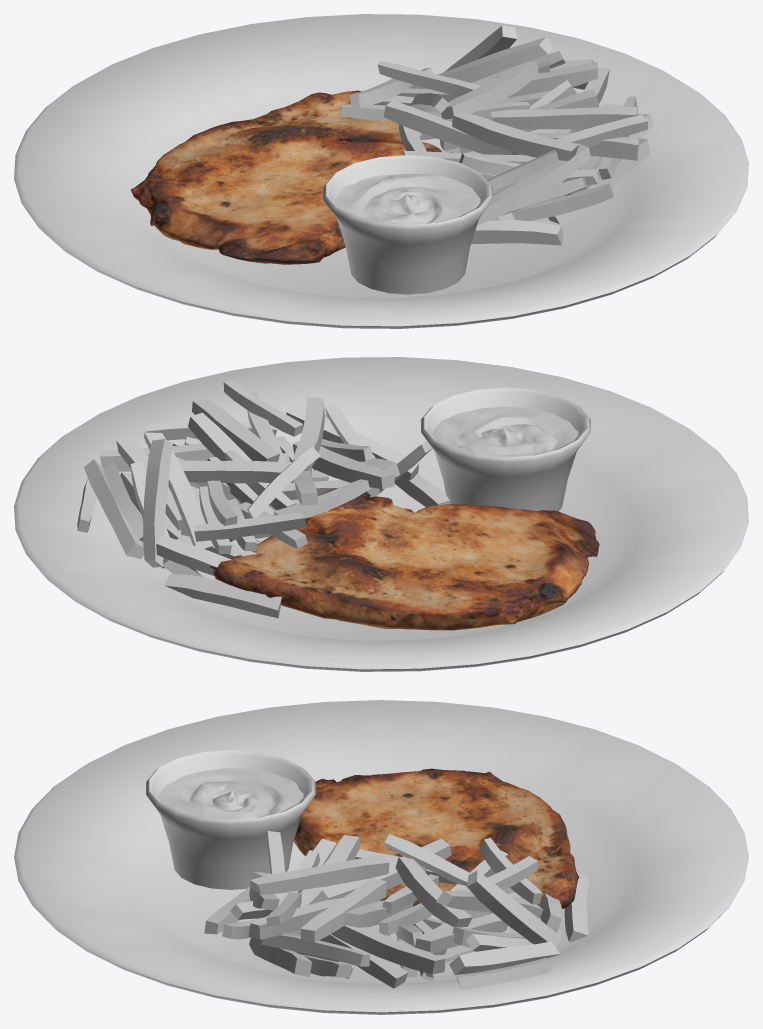
File: SteakFries_Separate.fbx
The picture shows the model from 3 angles, top to bottom: view 1: azimuth 30°, elevation 25°; view 2: azimuth 150°, elevation 25°; view 3: azimuth 270°, elevation 25°; orthographic projection.
Parts seen in each view (by area): view 1: SteakFries; view 2: SteakFries; view 3: SteakFries.
Part boxes in pixels (x1,y1,x2,y2): SteakFries: (14, 14, 748, 328); SteakFries: (14, 357, 748, 671); SteakFries: (14, 700, 748, 1014).
Size of the model in its own units: 27.95 by 5.24 by 27.95.
